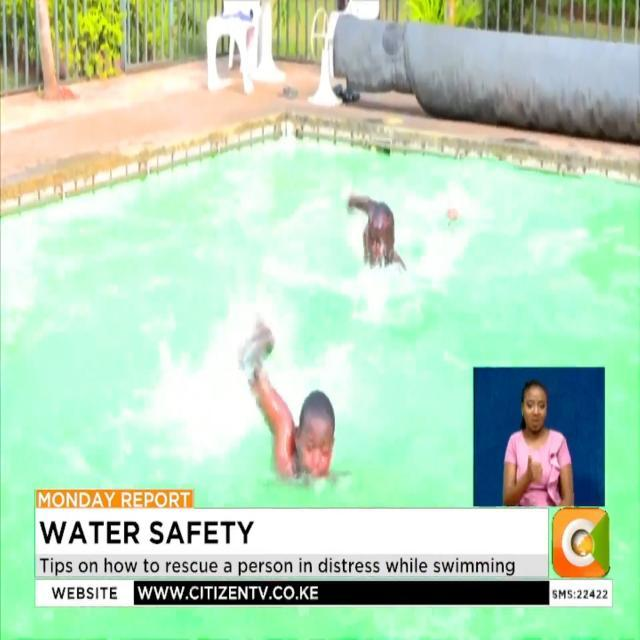swimming: (228, 300, 363, 503), (334, 169, 461, 295)
